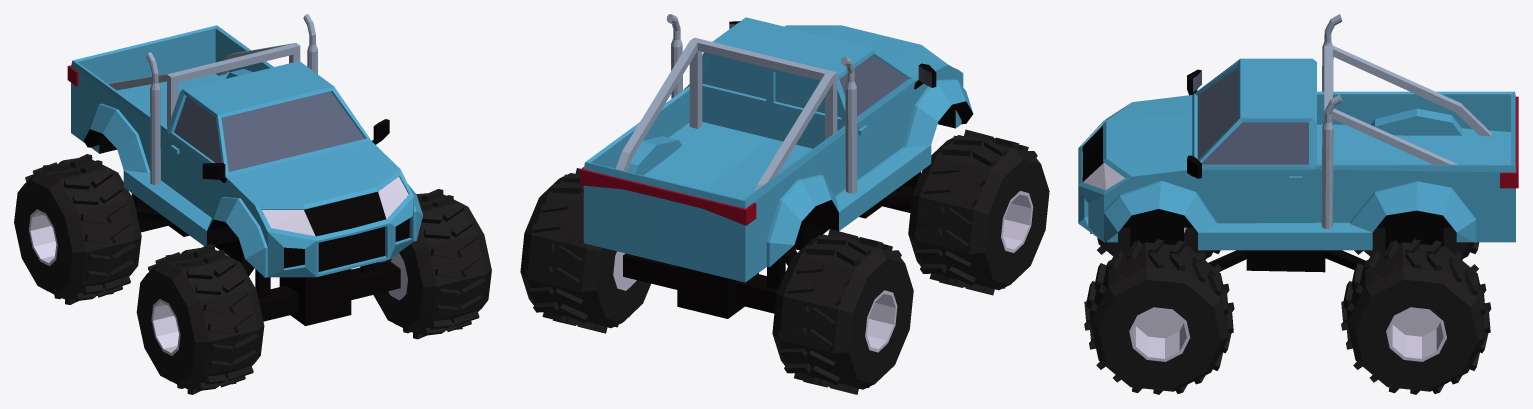
File: monster__truck.fbx
3 views of the same model, side by side, from view 1: azimuth 30°, elevation 25°; view 2: azimuth 150°, elevation 25°; view 3: azimuth 270°, elevation 25° (orthographic). The views are drawn at different scales.
Parts seen in each view (by area): view 1: Monster Truck, Monster Truck wheel front right, Monster Truck wheel rear right, Monster Truck wheel front left; view 2: Monster Truck, Monster Truck wheel rear right, Monster Truck wheel front right, Monster Truck wheel rear left; view 3: Monster Truck, Monster Truck wheel rear left, Monster Truck wheel front left, Monster Truck wheel rear right, Monster Truck wheel front right.
Boxes of the visible parts, x1=… form: Monster Truck: x1=67, y1=14, x2=423, y2=325; Monster Truck wheel front right: x1=136, y1=244, x2=264, y2=394; Monster Truck wheel rear right: x1=14, y1=154, x2=141, y2=304; Monster Truck wheel front left: x1=373, y1=189, x2=491, y2=339; Monster Truck: x1=580, y1=14, x2=973, y2=318; Monster Truck wheel rear right: x1=772, y1=229, x2=913, y2=394; Monster Truck wheel front right: x1=908, y1=129, x2=1049, y2=295; Monster Truck wheel rear left: x1=520, y1=168, x2=650, y2=333; Monster Truck: x1=1078, y1=14, x2=1518, y2=272; Monster Truck wheel rear left: x1=1341, y1=239, x2=1491, y2=394; Monster Truck wheel front left: x1=1084, y1=239, x2=1234, y2=394; Monster Truck wheel rear right: x1=1354, y1=227, x2=1479, y2=260; Monster Truck wheel front right: x1=1090, y1=227, x2=1220, y2=260.
Size of the model in its own units: 447 by 373 by 549.
